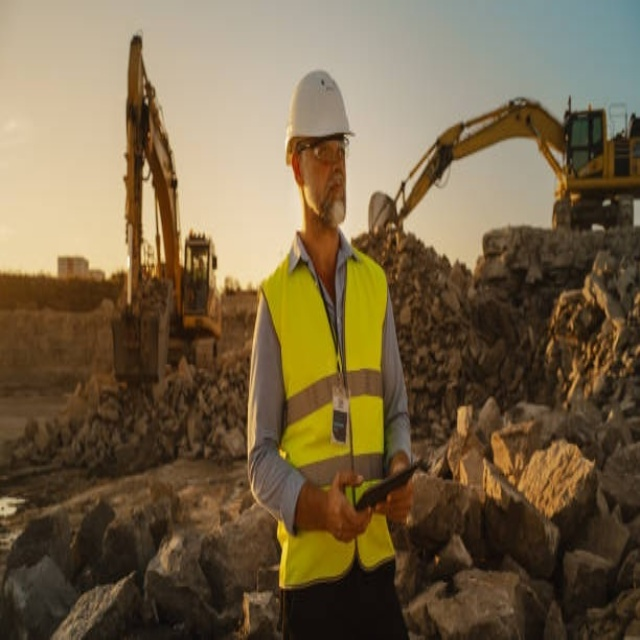Gafas: (298, 138, 351, 163)
Sin_guantes: (323, 469, 375, 543), (370, 461, 414, 525)
